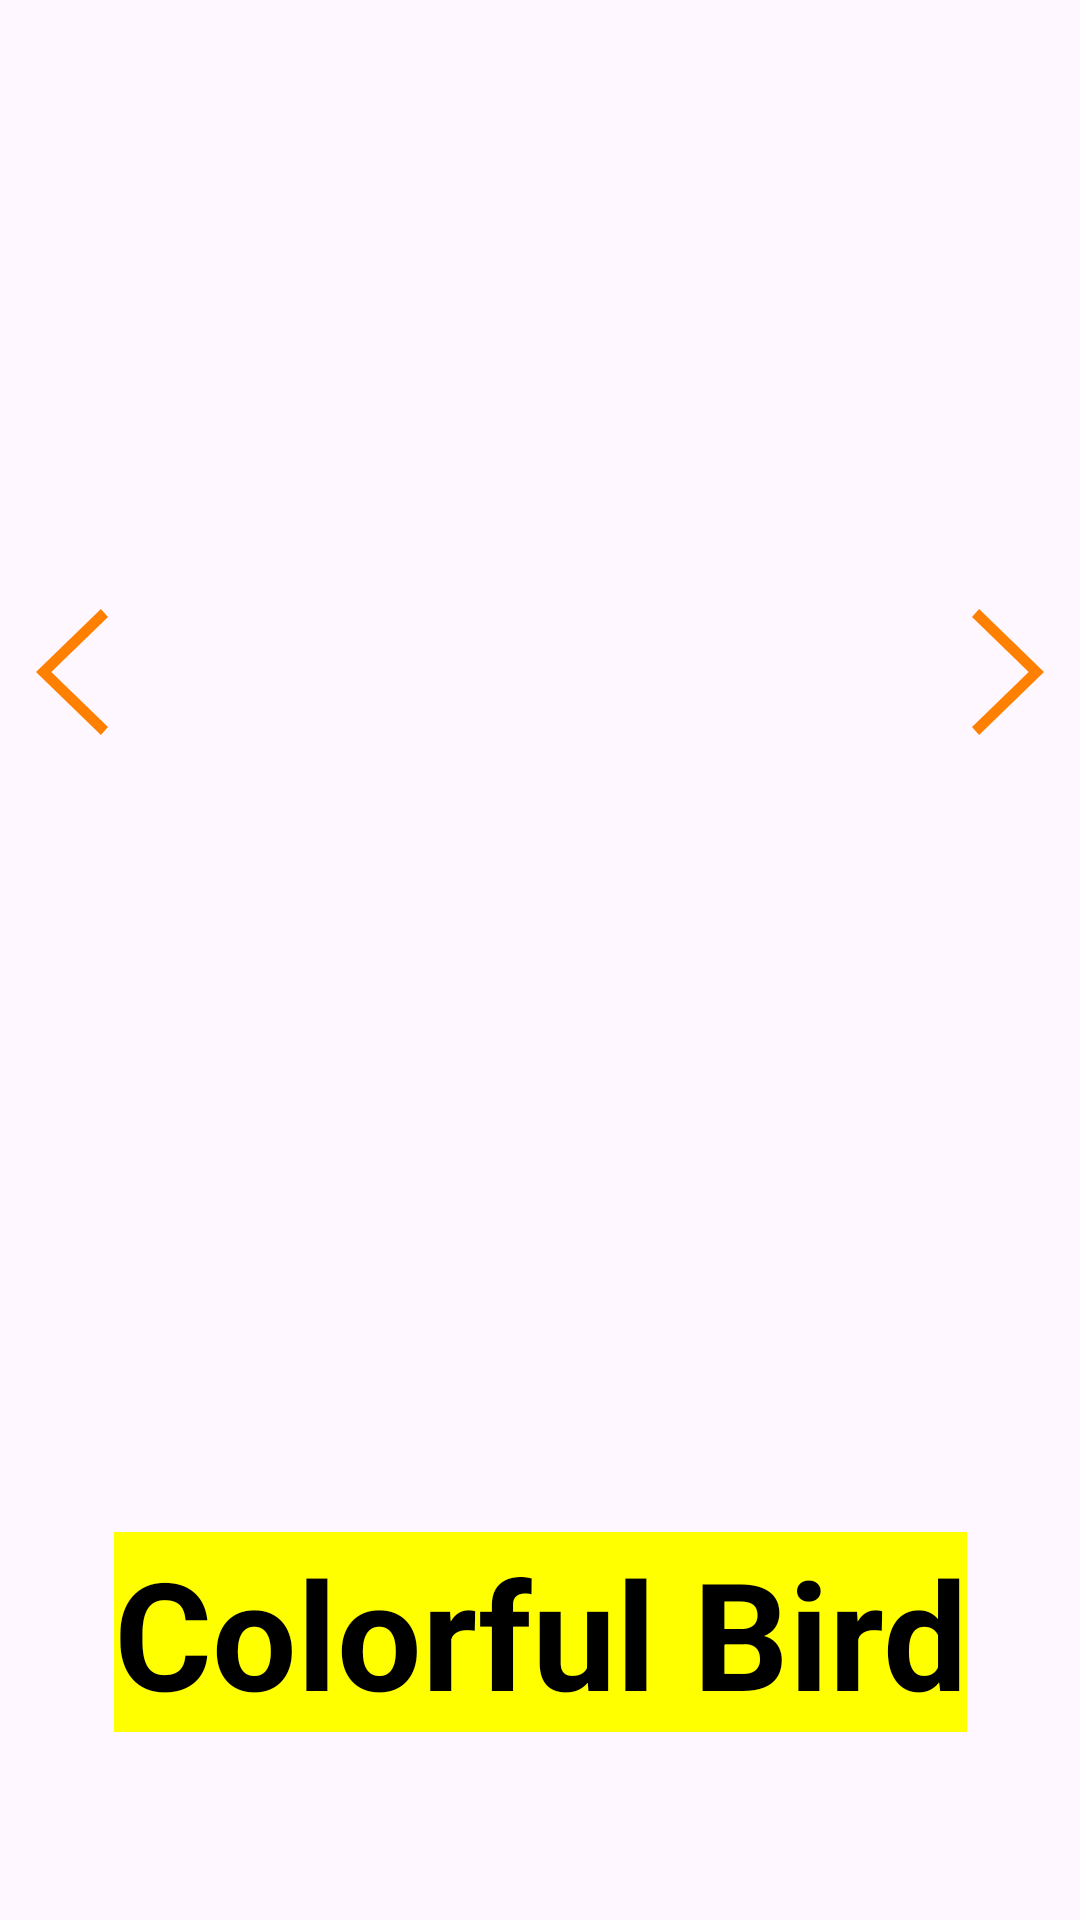

Icons on this 1080w x 1920h Android screen, each with the point to tap as [x,y]:
left arrow: [72,672]
right arrow: [1008,672]
